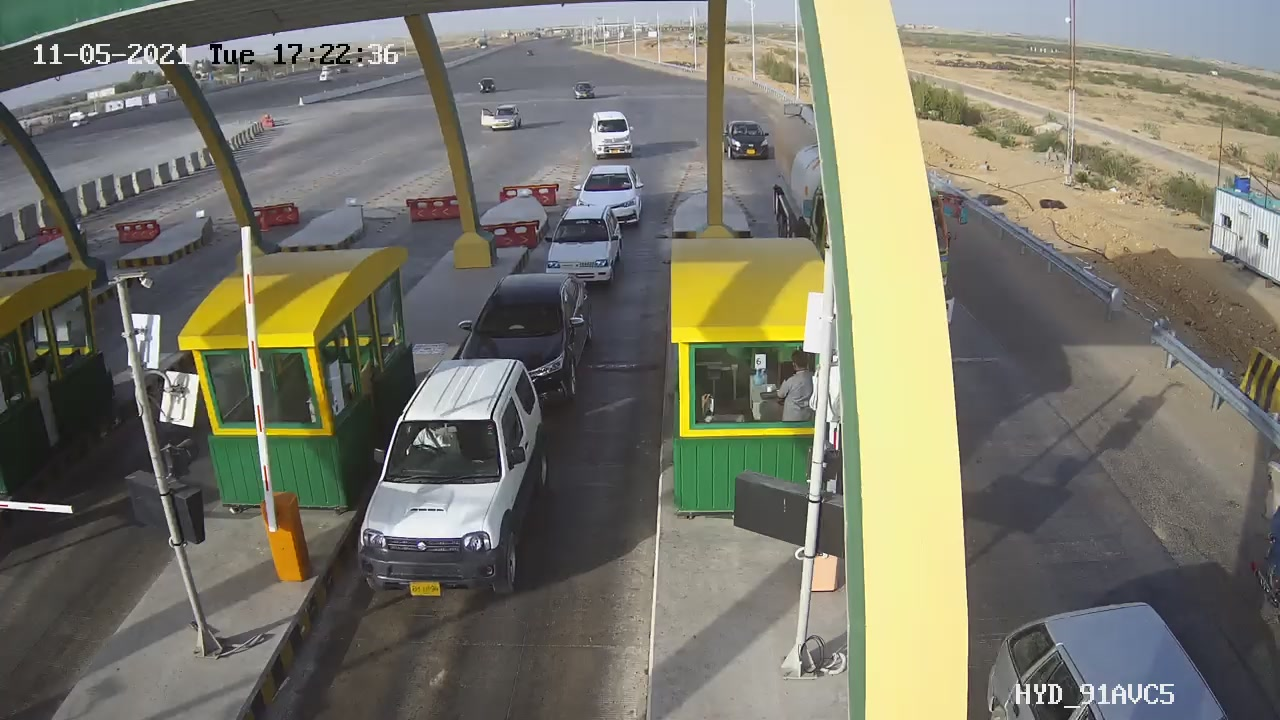F1: (335, 340, 572, 616), (530, 195, 634, 299)
